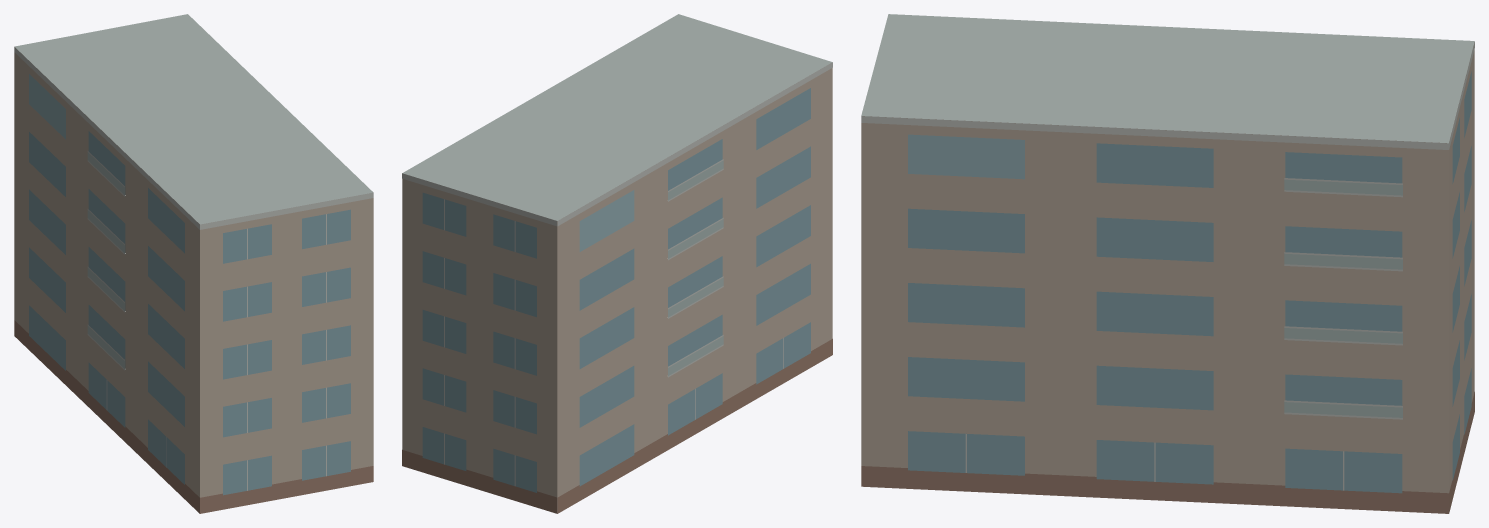
The model's file is survey-upis-32637850.glb.
3 views of the same model, side by side, from view 1: azimuth 30°, elevation 25°; view 2: azimuth 150°, elevation 25°; view 3: azimuth 270°, elevation 25° (orthographic). The views are drawn at different scales.
Visible parts, largest first — view 1: survey-upis-32637850.tmp; view 2: survey-upis-32637850.tmp; view 3: survey-upis-32637850.tmp.
Part boxes in pixels (<box>): survey-upis-32637850.tmp: <box>14,14,373,513</box>; survey-upis-32637850.tmp: <box>402,14,832,513</box>; survey-upis-32637850.tmp: <box>861,14,1474,513</box>.
Size of the model in its own units: 9.8 by 13.1 by 19.67.
